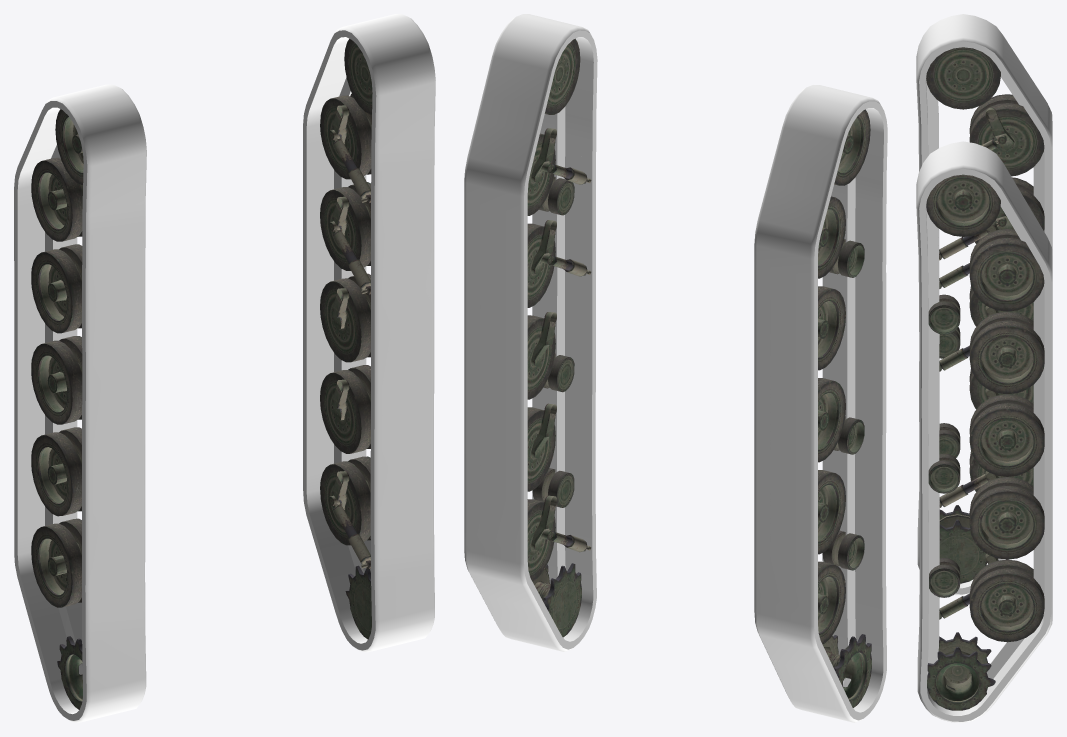
Rendered from Chassis.glb.
3 renders of one model, left to right at view 1: azimuth 30°, elevation 25°; view 2: azimuth 150°, elevation 25°; view 3: azimuth 270°, elevation 25°, orthographic. The views are drawn at different scales.
Visible parts, largest first — view 1: set_1_group_0, set_0_group_0, set_3_group_0, set_2_group_0; view 2: set_1_group_0, set_0_group_0, set_3_group_0, set_2_group_0; view 3: set_3_group_0, set_0_group_0, set_2_group_0, set_1_group_0.
Boxes of the visible parts, left/top/right/bottom form: set_1_group_0: left=14, top=84, right=146, bottom=722; set_0_group_0: left=303, top=14, right=435, bottom=652; set_3_group_0: left=320, top=39, right=372, bottom=639; set_2_group_0: left=31, top=109, right=83, bottom=709; set_1_group_0: left=754, top=85, right=887, bottom=722; set_0_group_0: left=464, top=14, right=597, bottom=651; set_3_group_0: left=527, top=38, right=591, bottom=637; set_2_group_0: left=818, top=109, right=871, bottom=707; set_3_group_0: left=926, top=174, right=1044, bottom=710; set_0_group_0: left=916, top=141, right=1052, bottom=722; set_2_group_0: left=926, top=47, right=1044, bottom=583; set_1_group_0: left=916, top=14, right=1052, bottom=595.
Size of the model in its own units: 3.13 by 5.3 by 1.17.
4 materials, 2 textured.
